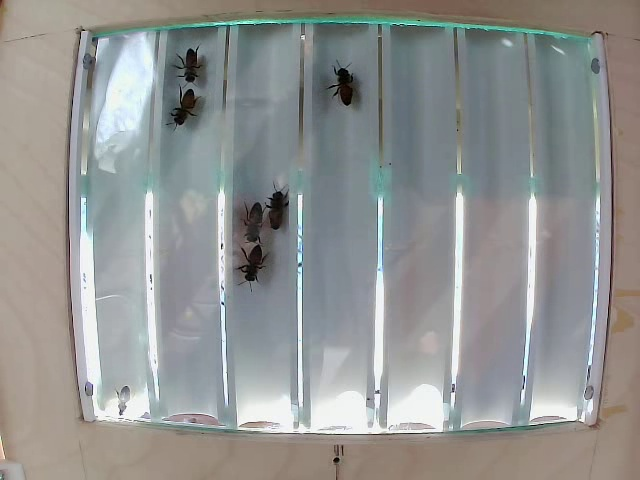bee: (328, 62, 366, 119), (167, 85, 205, 136), (239, 247, 271, 288), (178, 41, 205, 82), (244, 198, 266, 245), (265, 187, 285, 233)
